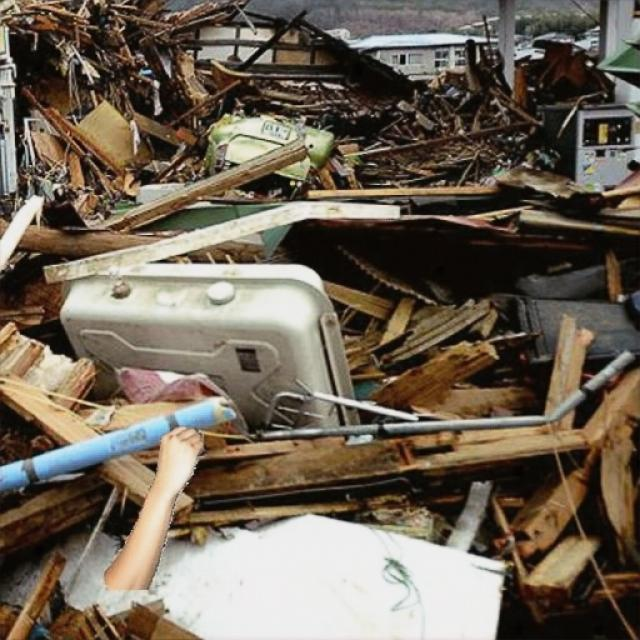Person in Rubble: (104, 428, 206, 588)
